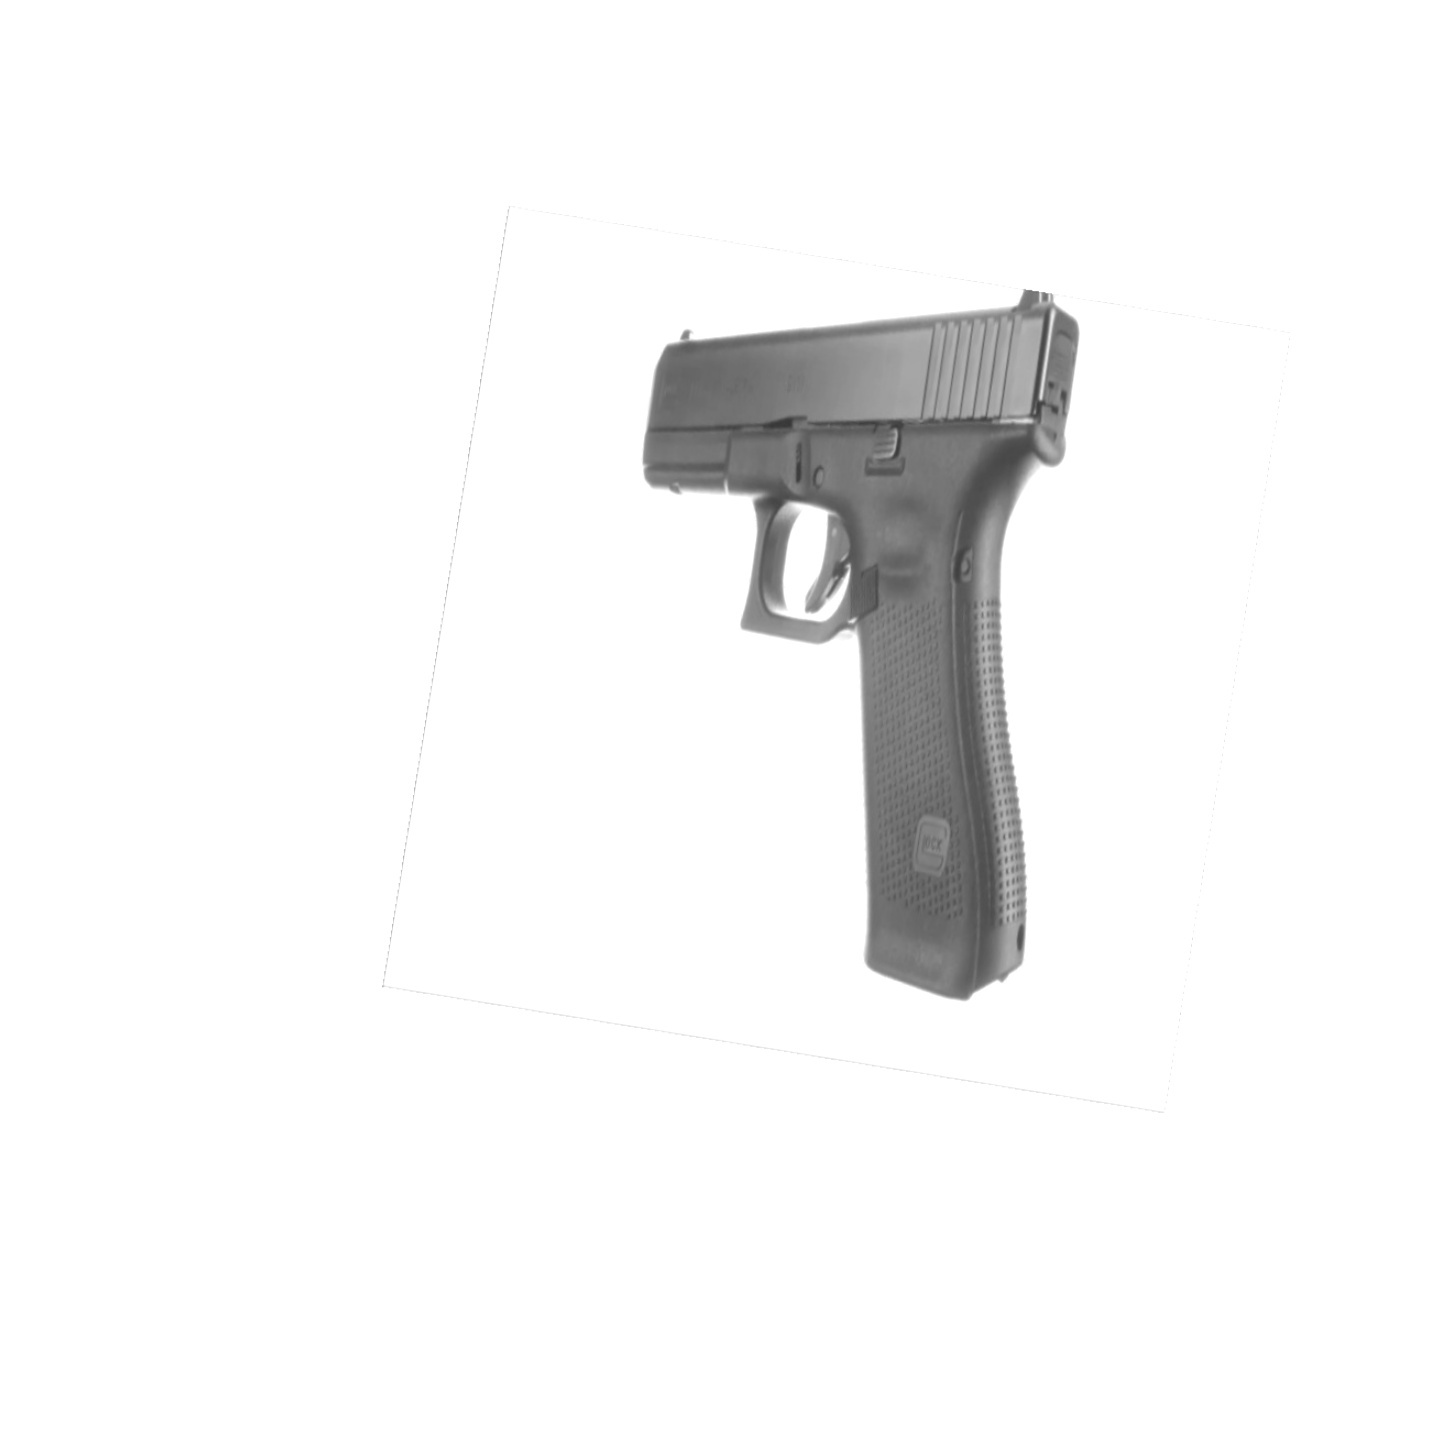gun: (641, 291, 1082, 1003)
